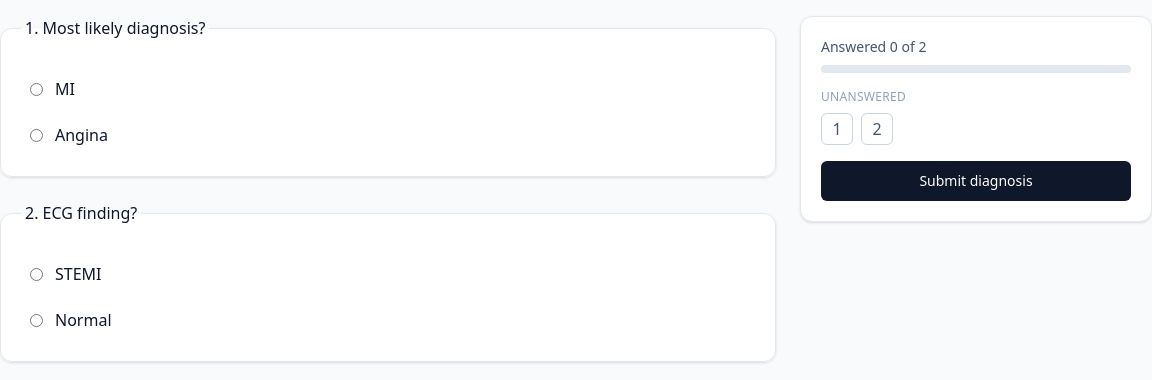
Test: CaseRunner › names the unanswered questions and does not submit
Click the radio button labelled "MI". click: point(36, 89)
box: [30,82,43,96]
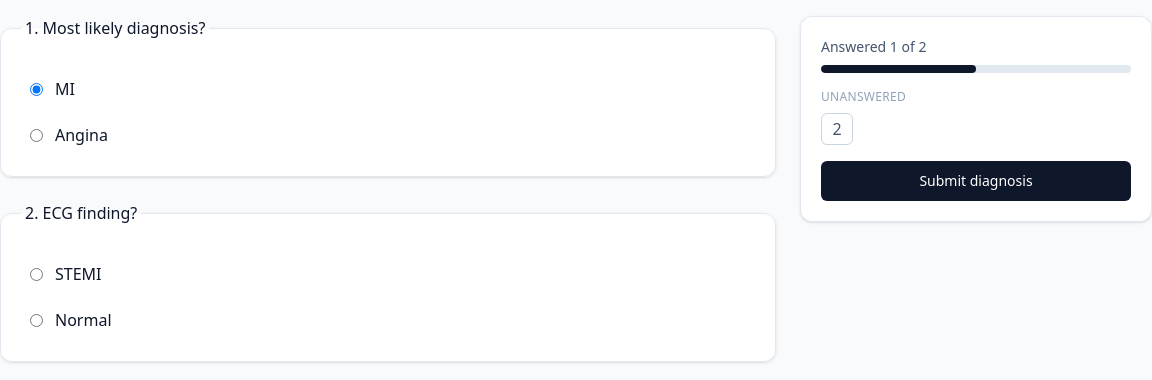
Submit the form from the button "Submit diagnosis", box [821,161,1131,201]
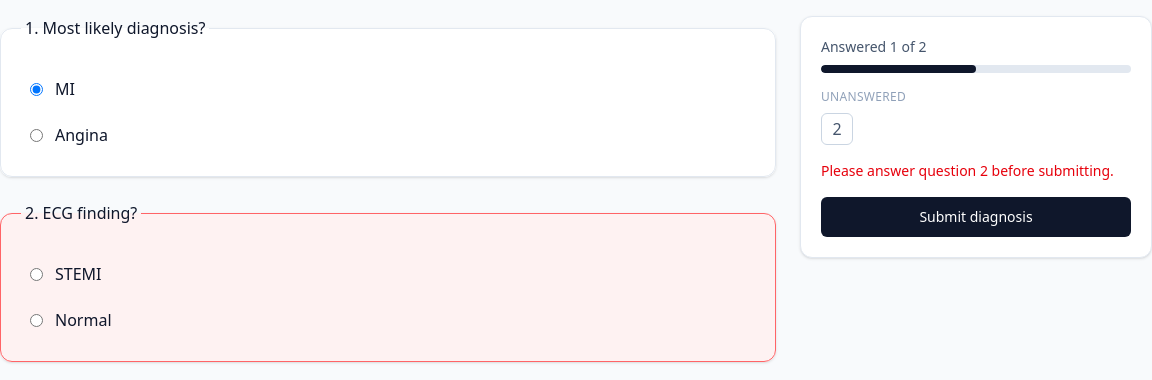
Expected: the message shows "question 2", [821,161,1114,180]
